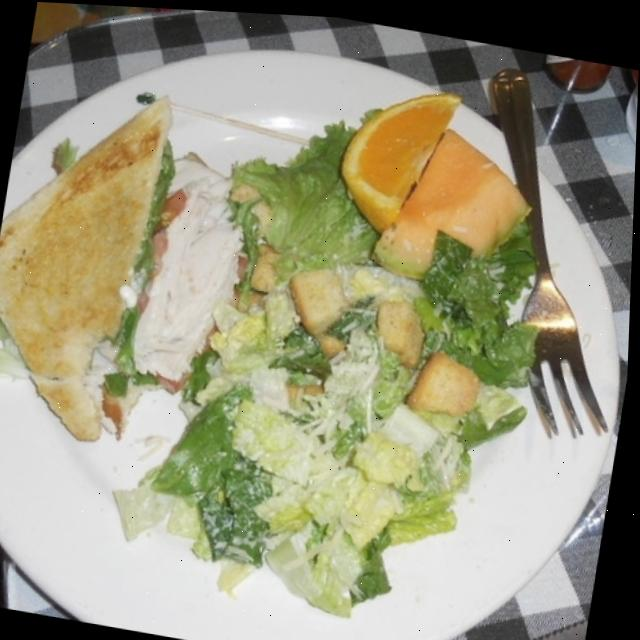蔬菜料理: (160, 71, 567, 634)
